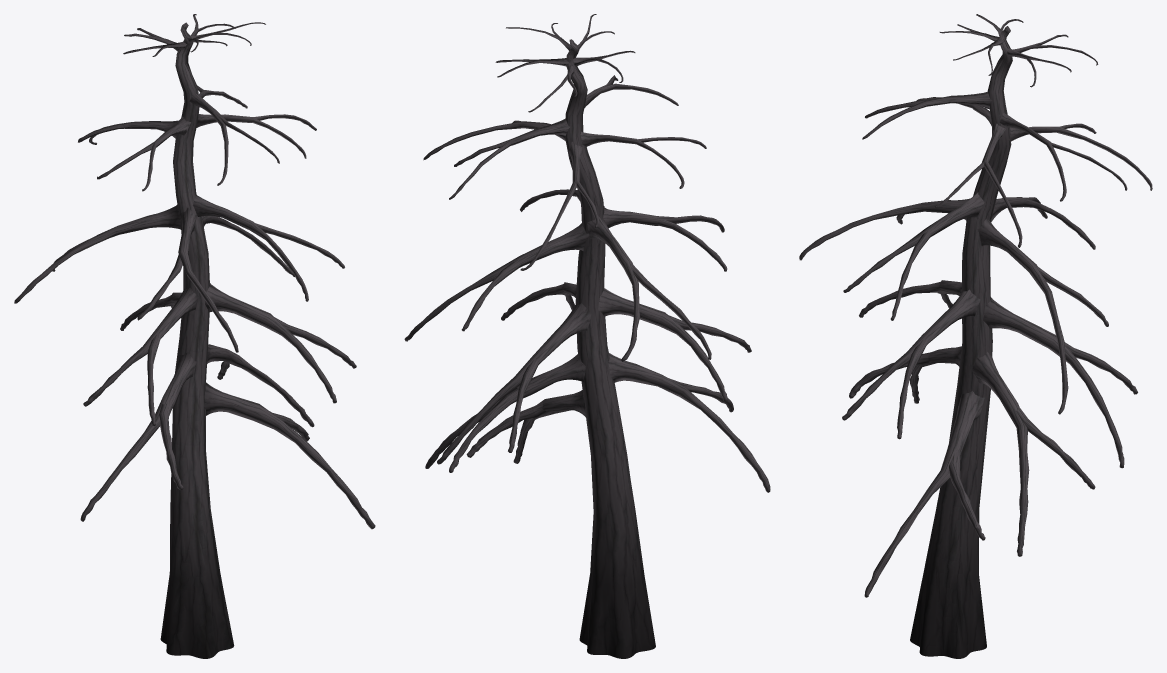
File: DeadTree_5.glb
The picture shows the model from 3 angles, left to right: view 1: azimuth 30°, elevation 25°; view 2: azimuth 150°, elevation 25°; view 3: azimuth 270°, elevation 25°; orthographic projection. The views are drawn at different scales.
Parts seen in each view (by area): view 1: DeadTree_5; view 2: DeadTree_5; view 3: DeadTree_5.
Part boxes in pixels (<box>): DeadTree_5: <box>14,14,375,658</box>; DeadTree_5: <box>404,14,770,658</box>; DeadTree_5: <box>799,14,1152,658</box>.
Size of the model in its own units: 8.36 by 16.44 by 8.41.
1 material, 1 textured.
